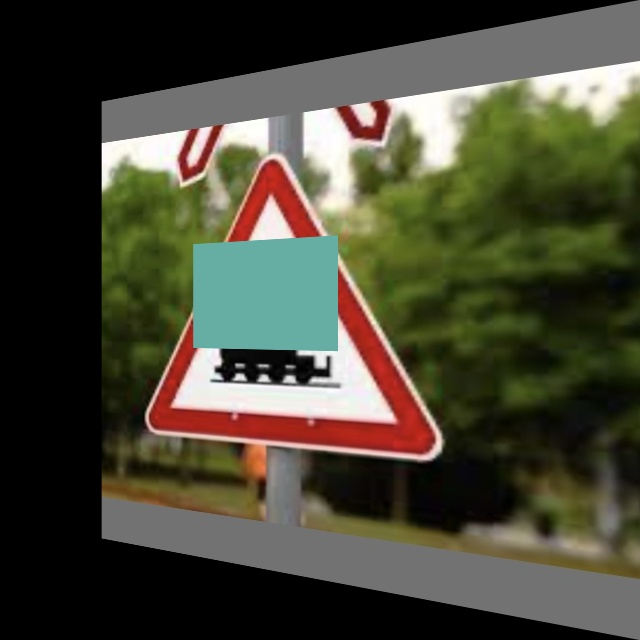Unguarded_Level_Crossing: (136, 144, 464, 470)
